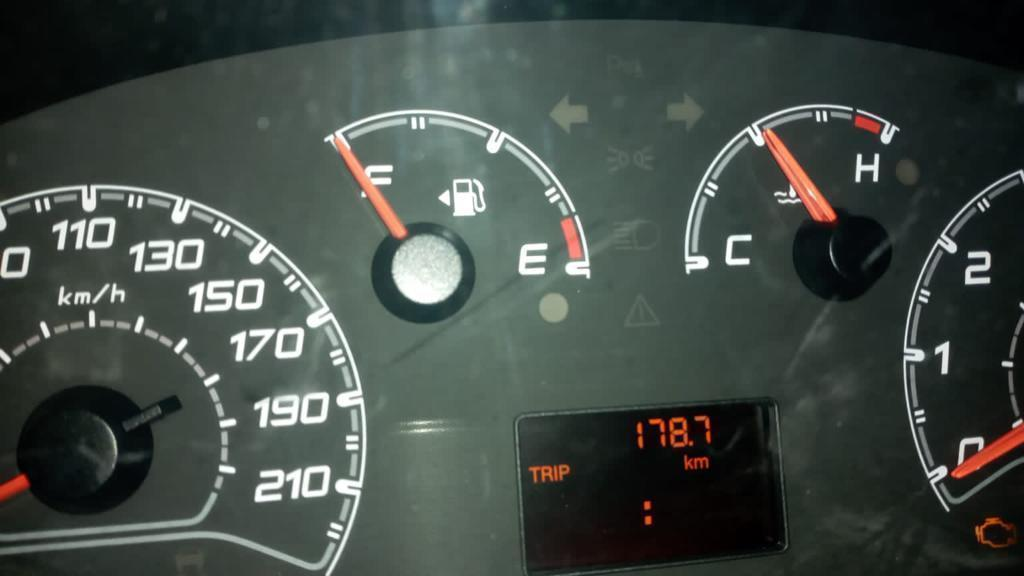,: (688, 438, 694, 446)
1: (633, 420, 646, 449)
7: (647, 416, 667, 448), (693, 415, 712, 445)
8: (668, 416, 688, 448)
X: (641, 498, 653, 526), (540, 463, 553, 483), (527, 464, 540, 484), (558, 463, 570, 481), (693, 456, 709, 469), (682, 453, 693, 470), (553, 463, 558, 483)
odometer: (513, 395, 791, 576)
